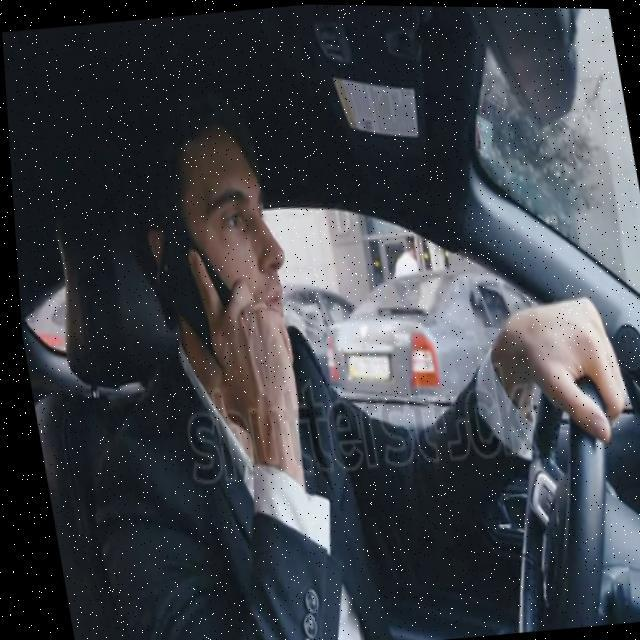PhoneCall: (144, 216, 243, 371)
